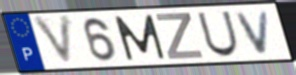6: (81, 16, 118, 64)
M: (112, 13, 168, 62)
U: (195, 10, 241, 59)
V: (30, 13, 76, 68), (234, 9, 273, 56)
Z: (153, 12, 206, 61)
